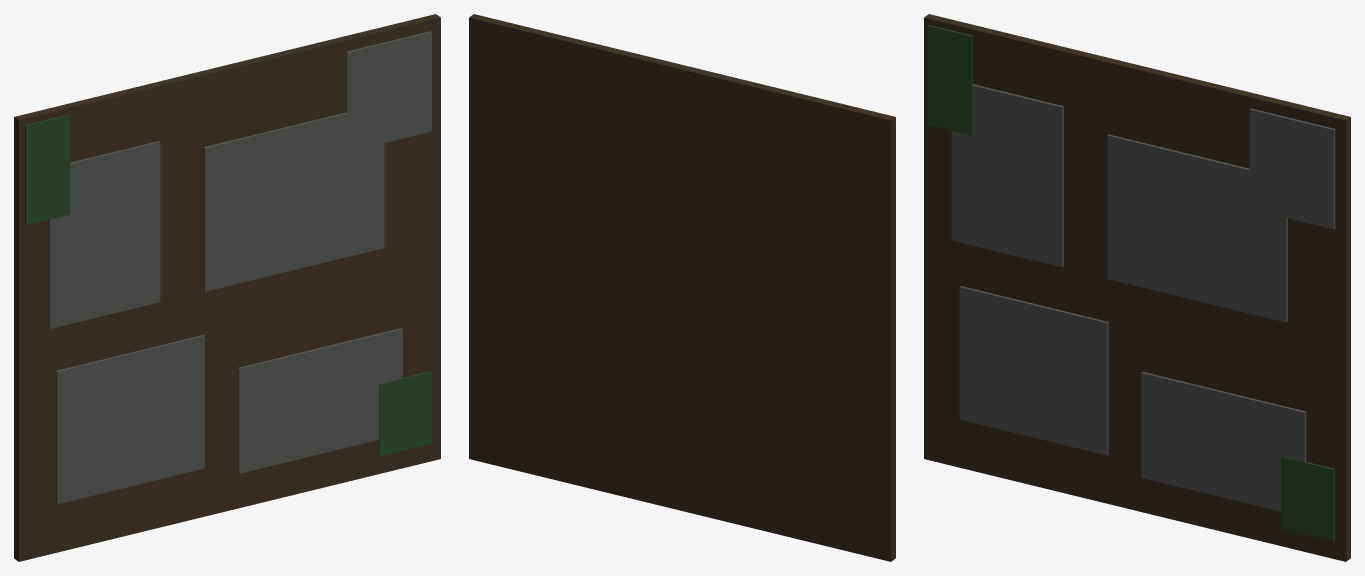
The model's file is SM_AET_ModularGroundTile_A01.fbx.
The picture shows the model from 3 angles, left to right: view 1: azimuth 30°, elevation 25°; view 2: azimuth 150°, elevation 25°; view 3: azimuth 330°, elevation 25°; orthographic projection.
Visible parts, largest first — view 1: Tile_Base, StoneSlab_04, StoneSlab_01, StoneSlab_03, StoneSlab_02, StoneSlab_05, MossPatch_NorthWest, MossPatch_SouthEast; view 2: Tile_Base; view 3: Tile_Base, StoneSlab_04, StoneSlab_01, StoneSlab_03, StoneSlab_02, StoneSlab_05, MossPatch_NorthWest, MossPatch_SouthEast.
Part boxes in pixels (x1,y1,x2,y2): Tile_Base: [14, 14, 440, 561]; StoneSlab_04: [203, 104, 384, 291]; StoneSlab_01: [56, 335, 204, 504]; StoneSlab_03: [48, 141, 160, 328]; StoneSlab_02: [238, 328, 402, 473]; StoneSlab_05: [346, 31, 431, 151]; MossPatch_NorthWest: [25, 114, 70, 225]; MossPatch_SouthEast: [378, 371, 431, 456]; Tile_Base: [469, 14, 895, 561]; Tile_Base: [924, 14, 1350, 561]; StoneSlab_04: [1107, 134, 1287, 322]; StoneSlab_01: [959, 286, 1108, 455]; StoneSlab_03: [951, 84, 1063, 267]; StoneSlab_02: [1141, 372, 1306, 511]; StoneSlab_05: [1249, 108, 1335, 229]; MossPatch_NorthWest: [927, 25, 972, 135]; MossPatch_SouthEast: [1281, 456, 1334, 541].
Size of what is drawn, in the model's own units: 400 by 400 by 11.
